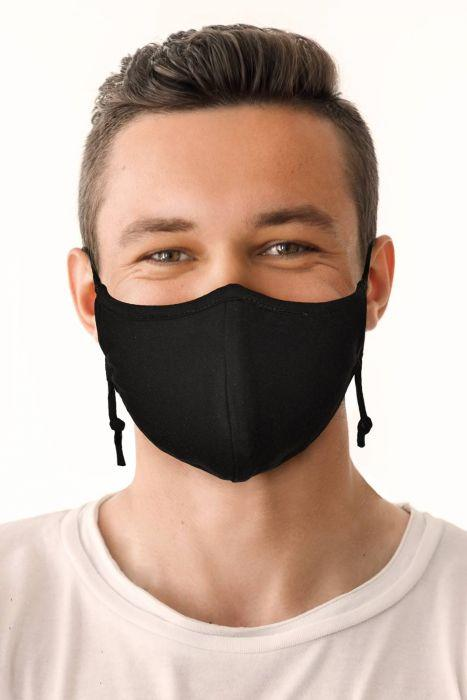Wearing Mask: (36, 17, 444, 507)
